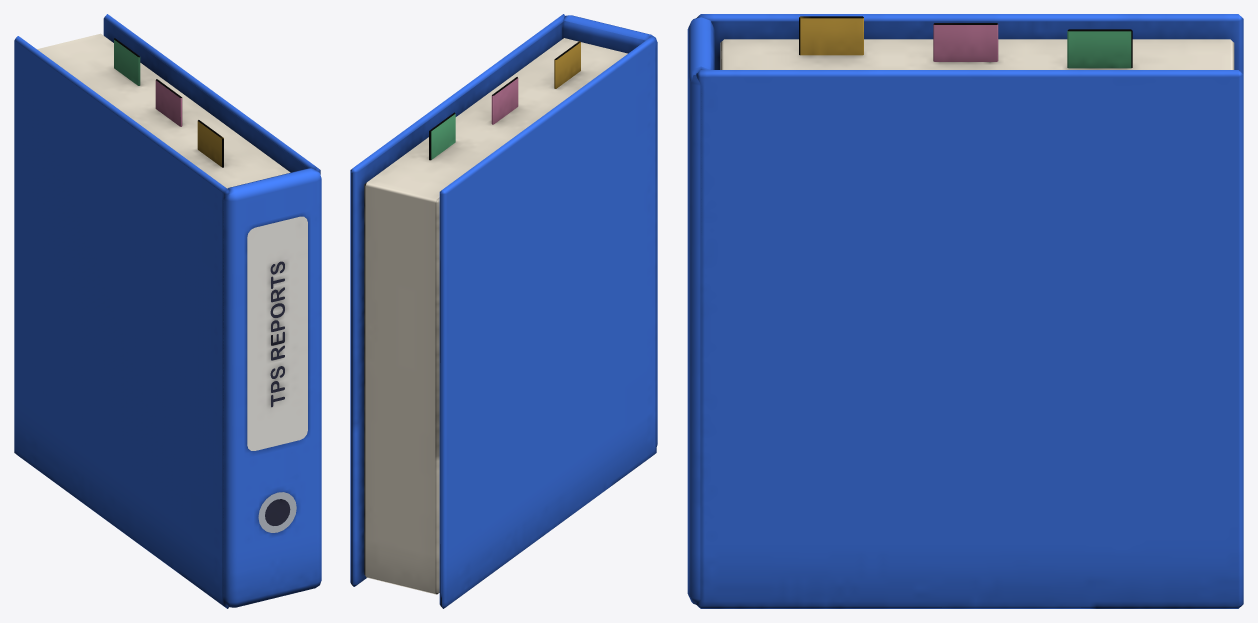
File: binder.glb
The picture shows the model from 3 angles, left to right: view 1: azimuth 30°, elevation 25°; view 2: azimuth 150°, elevation 25°; view 3: azimuth 270°, elevation 25°; orthographic projection. The views are drawn at different scales.
Visible parts, largest first — view 1: binder; view 2: binder; view 3: binder.
Part boxes in pixels (x1,y1,x2,y2): binder: (14, 14, 321, 608); binder: (350, 14, 657, 608); binder: (687, 14, 1243, 608).
Bounding box in the file's own units: 0.075 × 0.321 × 0.2908.
8 materials, 8 textured.
